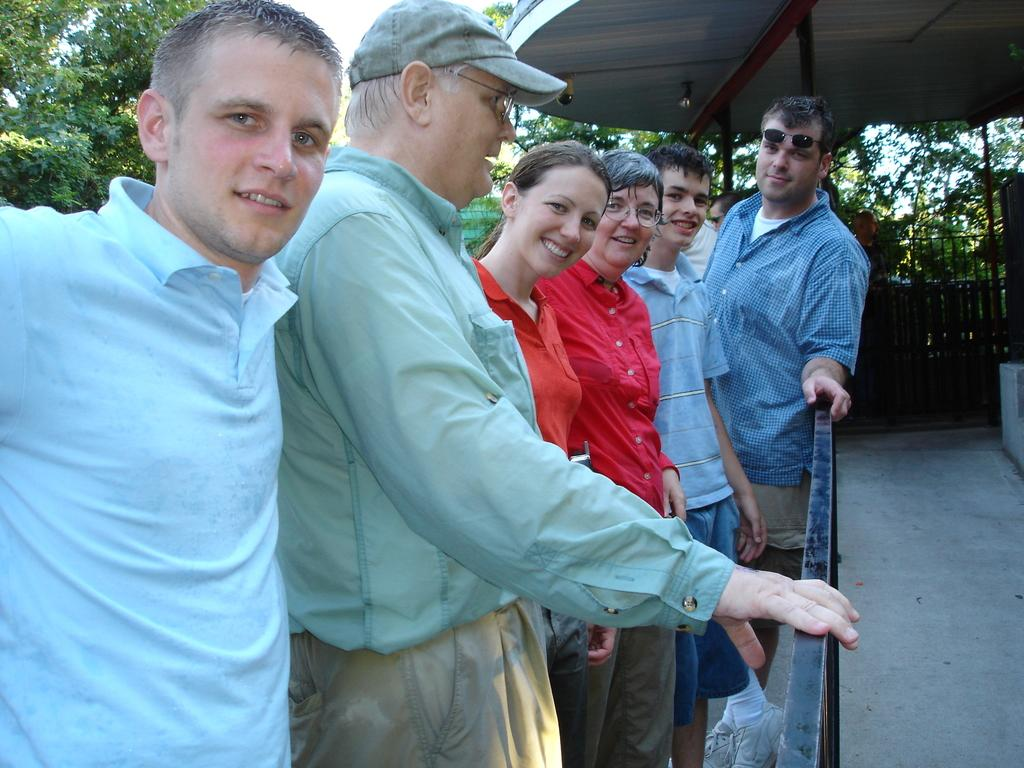Hat: (342, 0, 570, 115)
